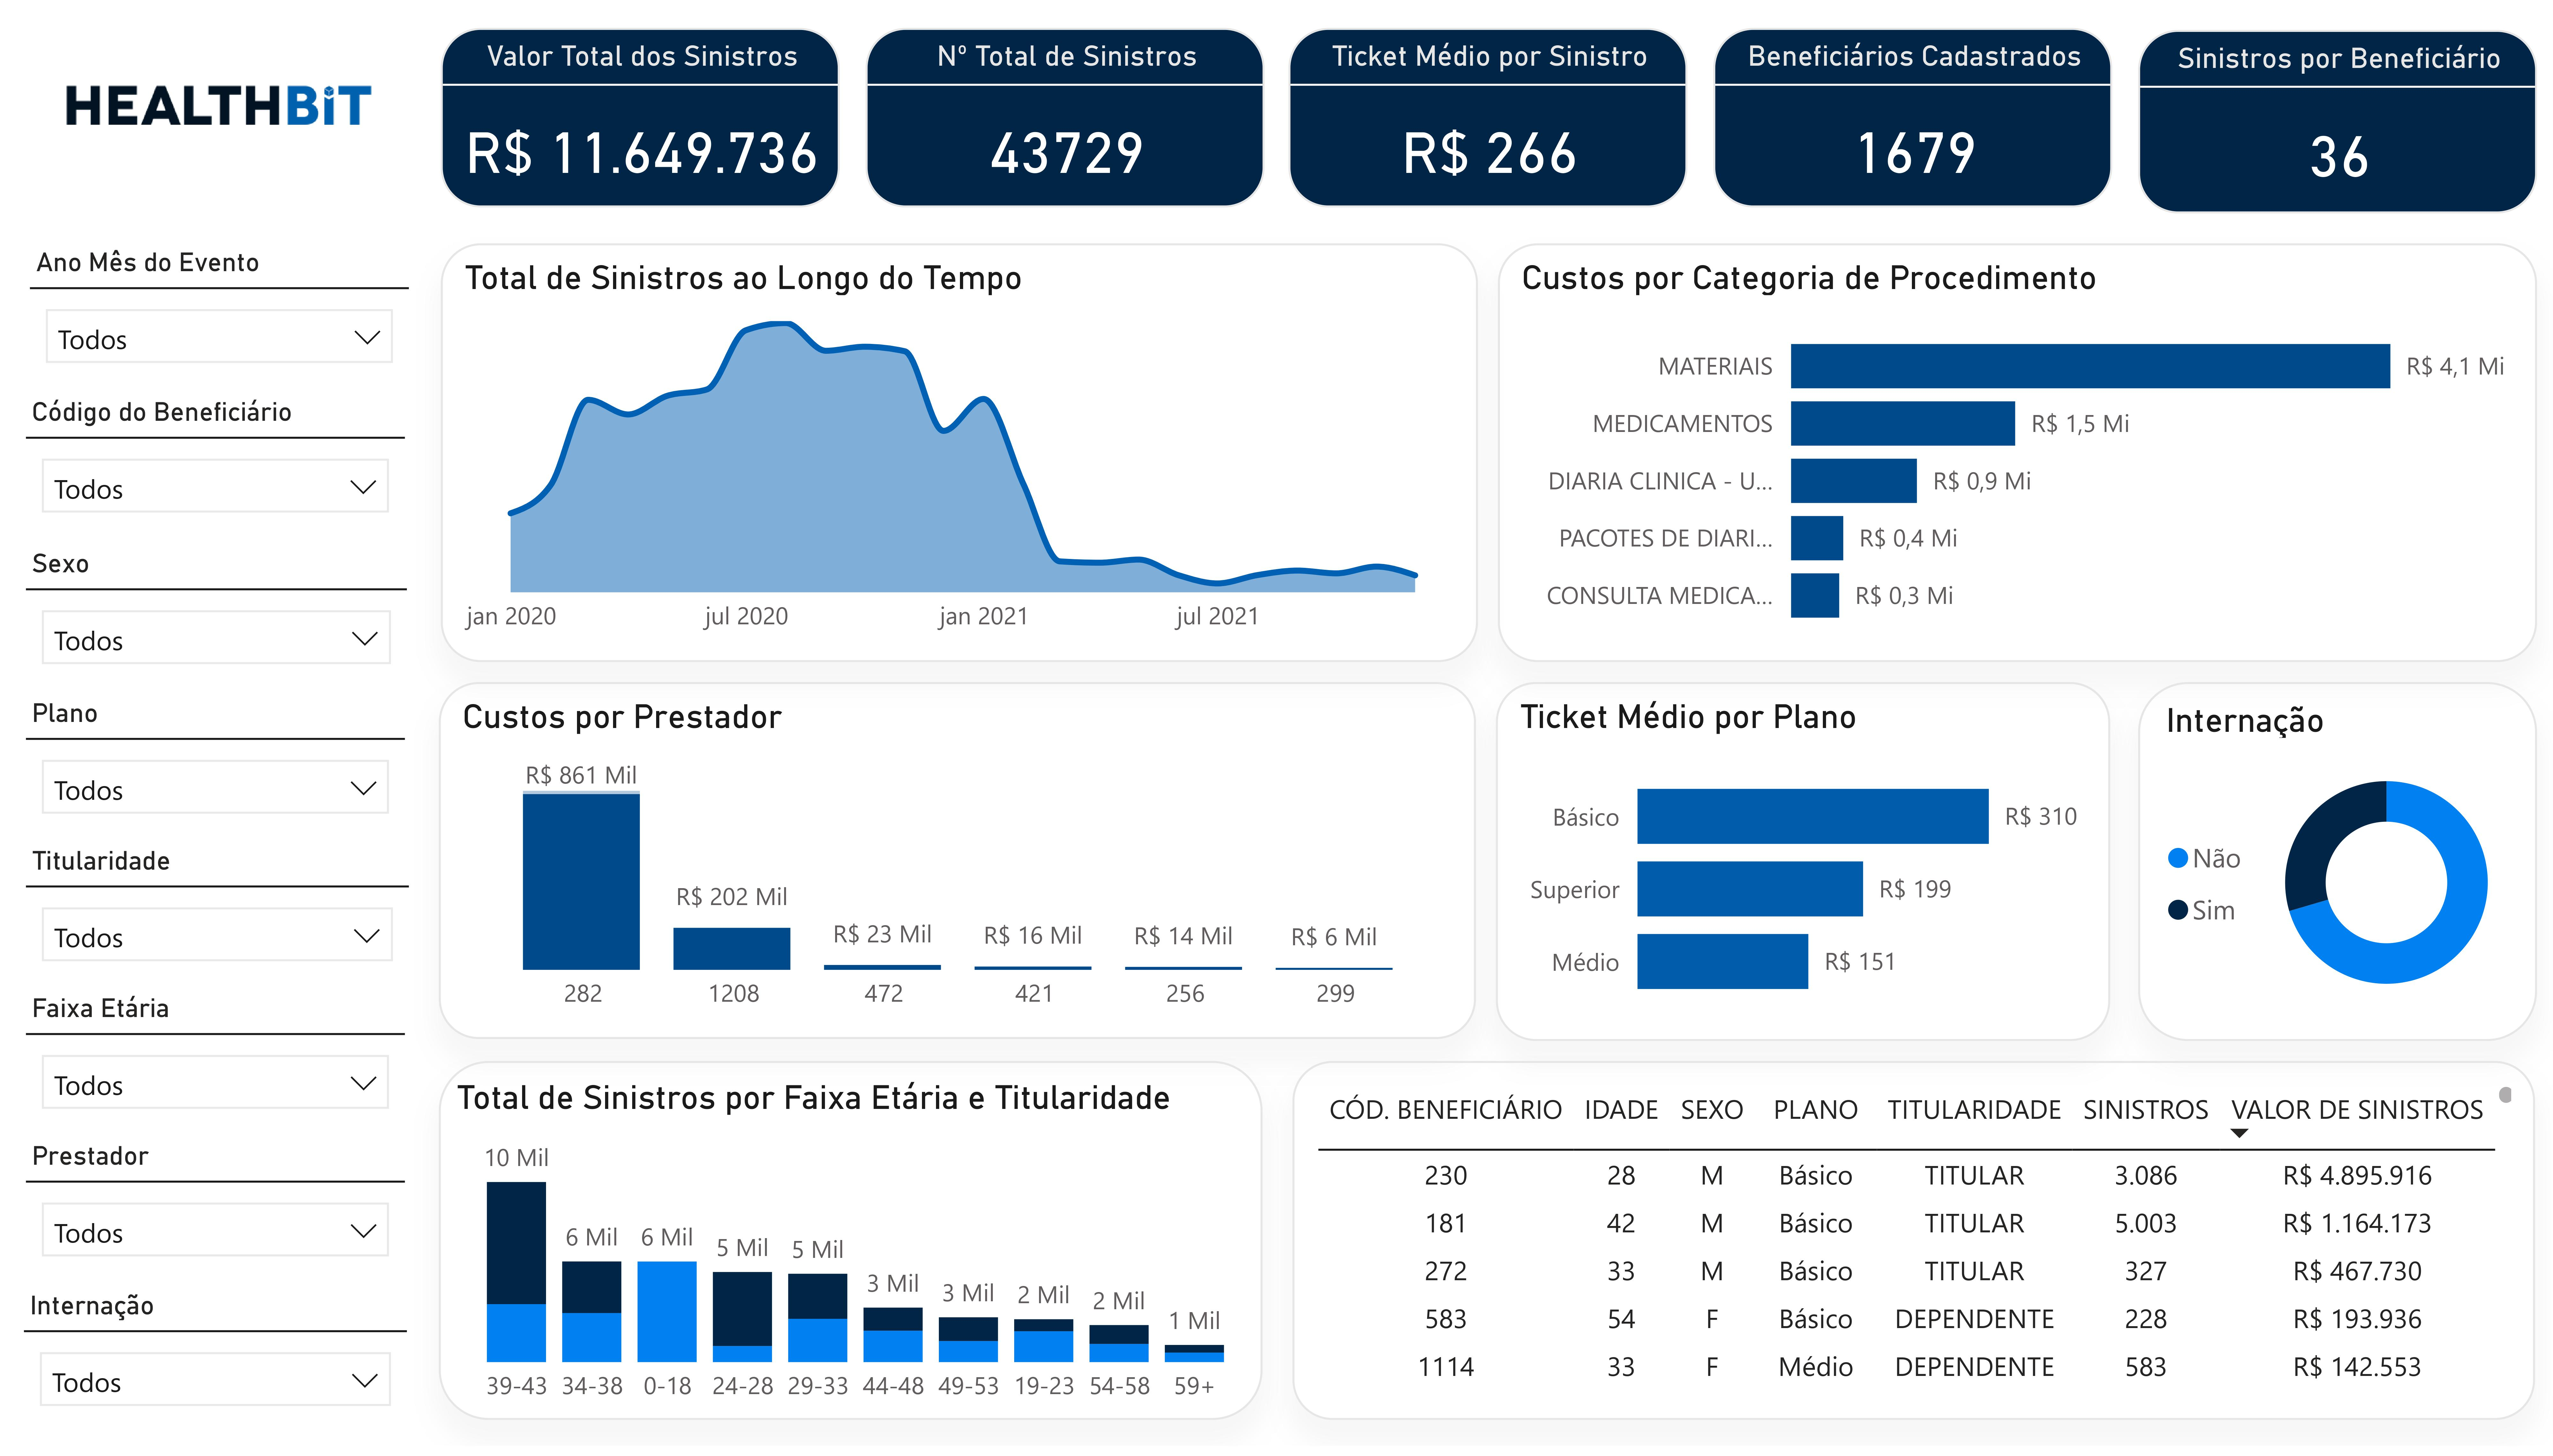

The dashboard page shown, as its layout file describes it:
{"tool":"powerbi","page":{"name":"One Page","canvas":[1280,720],"ordinal":0},"visuals":[{"type":"areaChart","title":"Total de Sinistros ao Longo do Tempo","fields":{"Y":["claims.CODIGO DO EVENTO"],"Category":["claims.DATA DO EVENTO.Variation.Hierarquia de datas.Ano","claims.DATA DO EVENTO.Variation.Hierarquia de datas.Trimestre","claims.DATA DO EVENTO.Variation.Hierarquia de datas.Mês"]},"box":[221,117.1,519.5,210],"z":0},{"type":"card","title":"Ticket Médio por Sinistro","fields":{"Values":["claims.TICKET MEDIO"]},"box":[646.3,8.8,200,90],"z":1000},{"type":"card","title":"Valor Total dos Sinistros","fields":{"Values":["claims.VALOR TOTAL SINISTROS"]},"box":[221,8.8,200,90],"z":2000},{"type":"card","title":"Nº Total de Sinistros","fields":{"Values":["claims.TOTAL DE SINISTROS"]},"box":[433.6,8.8,200,90],"z":3000},{"type":"card","title":"Beneficiários Cadastrados","fields":{"Values":["beneficiaries.BENEFICIARIOS CADASTRADOS"]},"box":[859,8.8,200,90],"z":4000},{"type":"card","title":"Sinistros por Beneficiário","fields":{"Values":["claims.SINISTROS POR BENEFICIARIO"]},"box":[1071.7,10,200,91.7],"z":5000},{"type":"image","box":[14.6,10.2,190.2,74.6],"z":6000},{"type":"barChart","title":"Ticket Médio por Plano","fields":{"Category":["claims.PLANO"],"Y":["claims.TICKET MEDIO"]},"box":[750,336.7,308.3,180],"z":7000},{"type":"barChart","title":"Custos por Categoria de Procedimento","fields":{"Category":["claims.DESCRITOR DO EVENTO"],"Y":["claims.VALOR TOTAL DE SINISTROS"]},"box":[750.7,117.1,521,210],"z":8000},{"type":"tableEx","fields":{"Values":["claims.CODIGO ÚNICO DA PESSOA","beneficiaries.IDADE","beneficiaries.SEXO","beneficiaries.PLANO","beneficiaries.TITULARIDADE","claims.SINISTROS POR BENEFICIARIO","claims.VALOR TOTAL DE SINISTROS"]},"box":[648.3,526.8,623.4,180],"z":9000},{"type":"donutChart","title":"Internação","fields":{"Category":["claims.INTERNACAO?"],"Y":["claims.TOTAL DE SINISTROS"]},"box":[1071.7,336.7,200,180],"z":10000},{"type":"lineStackedColumnComboChart","title":"Custos por Prestador","fields":{"Category":["claims.PRESTADOR"],"Y":["claims.VALOR TOTAL DE SINISTROS"]},"box":[220.1,337.3,520.2,179.3],"z":11001},{"type":"columnChart","title":"Total de Sinistros por Faixa Etária e Titularidade","fields":{"Category":["beneficiaries.FAIXA ETÁRIA"],"Y":["claims.TOTAL DE SINISTROS"],"Series":["beneficiaries.TITULARIDADE"]},"box":[220,526.7,413.3,180],"z":11002},{"type":"slicer","title":"Ano Mês do Evento","fields":{"Values":["claims.ANO-MÊS DO EVENTO"]},"box":[15.1,116.8,189.9,67.2],"z":11003},{"type":"slicer","title":"Código do Beneficiário","fields":{"Values":["beneficiaries.CODIGO ÚNICO DA PESSOA"]},"box":[13.4,191.6,189.9,68.9],"z":11005},{"type":"slicer","title":"Sexo","fields":{"Values":["beneficiaries.SEXO"]},"box":[12.7,268.1,190.7,67.3],"z":11006},{"type":"slicer","title":"Plano","fields":{"Values":["beneficiaries.PLANO"]},"box":[13.3,343,190,66],"z":11007},{"type":"slicer","title":"Titularidade","fields":{"Values":["beneficiaries.TITULARIDADE"]},"box":[13.3,416.6,191.7,66.7],"z":11008},{"type":"slicer","title":"Faixa Etária","fields":{"Values":["beneficiaries.FAIXA ETÁRIA"]},"box":[13.3,490.8,190,66.7],"z":11009},{"type":"slicer","title":"Prestador","fields":{"Values":["claims.PRESTADOR"]},"box":[13.3,565.1,190,67.3],"z":11010},{"type":"slicer","title":"Fonte","fields":{"Values":["claims.INTERNACAO?"]},"box":[11.7,640,191.7,66.7],"z":11011}]}

Visuals, with their boxes in screenshot pixels (x1, y1, x2, y2), scaled from the page's 1280x720 canvas onto the 2553x1456 screenshot:
"Total de Sinistros ao Longo do Tempo" areaChart: BBox(441, 237, 1477, 661)
"Ticket Médio por Sinistro" card: BBox(1289, 18, 1688, 200)
"Valor Total dos Sinistros" card: BBox(441, 18, 840, 200)
"Nº Total de Sinistros" card: BBox(865, 18, 1264, 200)
"Beneficiários Cadastrados" card: BBox(1713, 18, 2112, 200)
"Sinistros por Beneficiário" card: BBox(2137, 20, 2536, 206)
image: BBox(29, 21, 408, 172)
"Ticket Médio por Plano" barChart: BBox(1496, 681, 2111, 1045)
"Custos por Categoria de Procedimento" barChart: BBox(1497, 237, 2536, 661)
tableEx - claims.CODIGO ÚNICO DA PESSOA x beneficiaries.IDADE: BBox(1293, 1065, 2536, 1429)
"Internação" donutChart: BBox(2137, 681, 2536, 1045)
"Custos por Prestador" lineStackedColumnComboChart: BBox(439, 682, 1477, 1045)
"Total de Sinistros por Faixa Etária e Titularidade" columnChart: BBox(439, 1065, 1263, 1429)
"Ano Mês do Evento" slicer: BBox(30, 236, 409, 372)
"Código do Beneficiário" slicer: BBox(27, 388, 406, 527)
"Sexo" slicer: BBox(25, 542, 406, 678)
"Plano" slicer: BBox(26, 694, 406, 827)
"Titularidade" slicer: BBox(26, 843, 409, 977)
"Faixa Etária" slicer: BBox(26, 992, 406, 1127)
"Prestador" slicer: BBox(26, 1143, 406, 1279)
"Fonte" slicer: BBox(23, 1294, 406, 1429)
